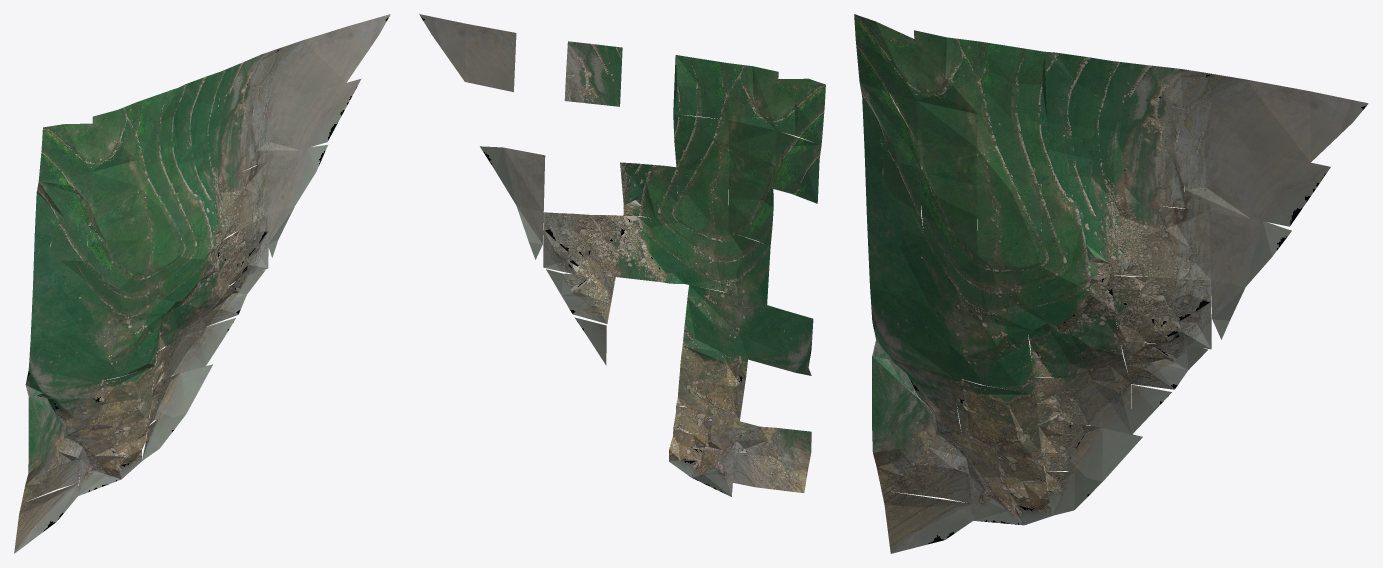
File: Tile_+003_+001.gltf
3 views of the same model, side by side, from view 1: azimuth 30°, elevation 25°; view 2: azimuth 150°, elevation 25°; view 3: azimuth 330°, elevation 25° (orthographic). The views are drawn at different scales.
Parts seen in each view (by area): view 1: default; view 2: default; view 3: default.
Part boxes in pixels (bbox=[...]): default: bbox=[14, 14, 390, 553]; default: bbox=[419, 14, 825, 496]; default: bbox=[854, 14, 1368, 553].
Size of the model in its own units: 139 by 158 by 20.77.
40 materials, 40 textured.
